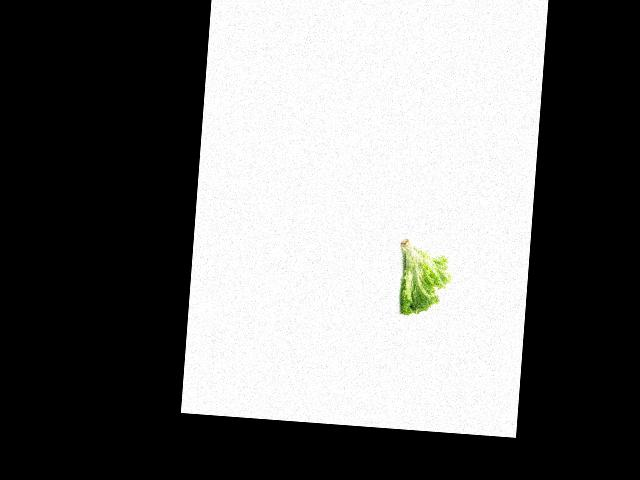lettuce: (394, 236, 454, 318)
